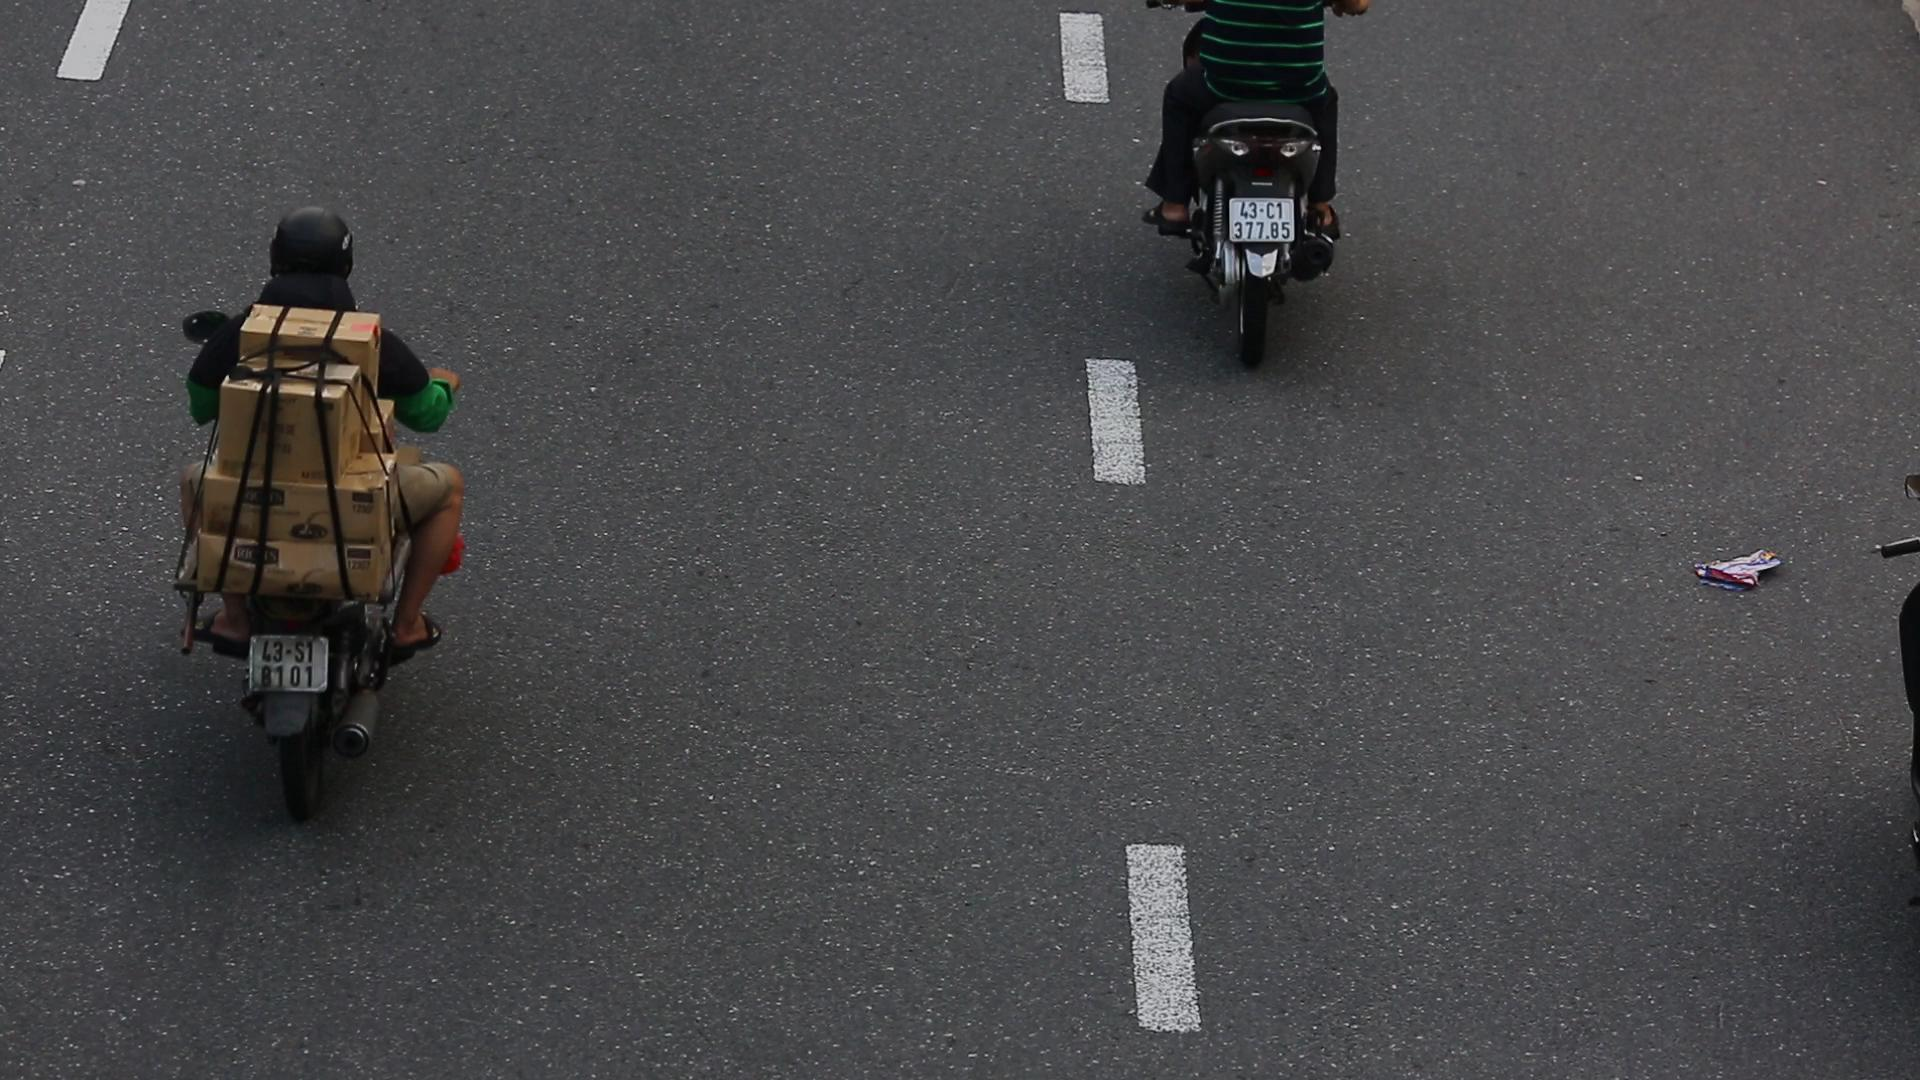motobike: (153, 181, 471, 828)
